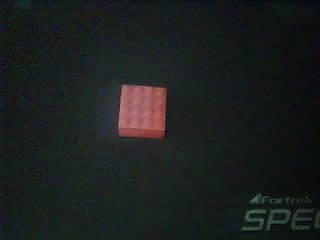lego: (118, 85, 167, 138)
